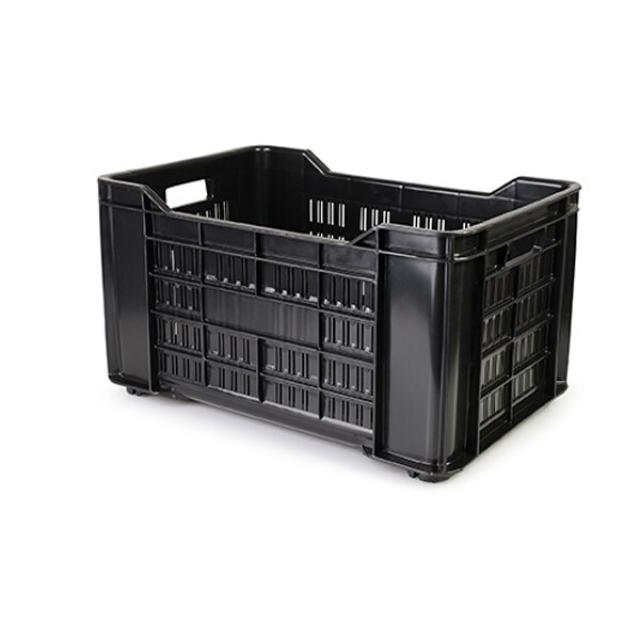basket: (68, 125, 593, 496)
